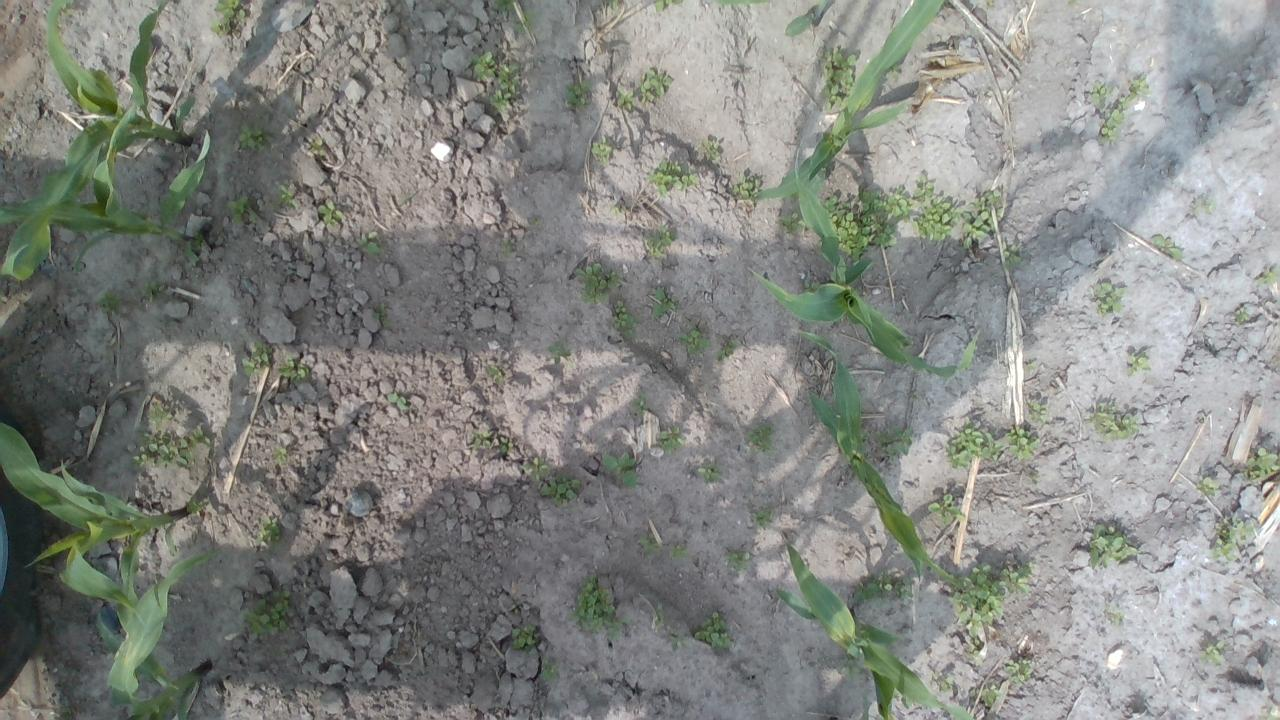Maize: (744, 145, 978, 382), (0, 0, 191, 281), (0, 422, 192, 689), (794, 327, 963, 584), (0, 70, 211, 272), (751, 0, 948, 200), (776, 545, 978, 720), (92, 547, 210, 720), (784, 0, 826, 38)
Weeds: (821, 187, 910, 270), (950, 565, 1006, 639), (567, 575, 625, 639), (910, 174, 961, 241), (946, 419, 1004, 470), (236, 590, 290, 639), (961, 188, 1004, 248), (130, 431, 192, 469), (822, 47, 856, 112), (1085, 402, 1140, 442), (1088, 524, 1137, 568), (851, 574, 912, 608), (1212, 514, 1254, 562), (646, 158, 700, 195), (575, 262, 622, 304), (490, 63, 522, 111), (694, 612, 734, 650), (602, 452, 642, 490), (540, 474, 582, 505), (211, 0, 247, 36), (638, 68, 674, 104), (1004, 426, 1041, 461), (240, 338, 272, 375), (928, 494, 966, 525), (236, 121, 272, 153), (1243, 448, 1280, 479), (874, 428, 911, 459), (1116, 74, 1148, 109), (744, 421, 777, 454), (1002, 564, 1038, 594), (1094, 281, 1126, 314), (222, 196, 258, 224), (470, 49, 500, 82), (278, 356, 310, 386), (612, 300, 637, 338), (647, 226, 677, 257), (678, 330, 713, 356), (1100, 110, 1124, 146), (1150, 234, 1183, 260), (564, 79, 594, 107), (511, 624, 538, 654), (657, 424, 683, 455), (1004, 658, 1034, 684), (256, 512, 281, 543), (182, 231, 204, 266), (652, 286, 676, 318), (730, 172, 760, 197), (95, 288, 122, 314), (316, 198, 343, 224), (358, 231, 384, 258), (1088, 80, 1112, 109), (1200, 640, 1226, 666), (1022, 398, 1048, 424), (590, 136, 614, 164), (782, 208, 806, 236), (1125, 352, 1151, 376), (274, 182, 298, 208), (520, 458, 548, 480), (548, 337, 570, 364), (1002, 243, 1022, 272), (614, 86, 636, 112), (369, 303, 392, 327), (726, 551, 752, 571), (302, 134, 324, 157), (516, 7, 536, 32), (542, 657, 562, 682), (982, 683, 1002, 707), (631, 391, 650, 416), (930, 670, 954, 688), (142, 278, 160, 302), (1197, 477, 1219, 496), (750, 510, 773, 528), (1256, 267, 1280, 284), (696, 464, 720, 481), (639, 534, 659, 554), (718, 340, 738, 360), (470, 430, 491, 449), (842, 658, 862, 677), (716, 0, 770, 7), (654, 0, 682, 13), (149, 404, 168, 423), (486, 367, 505, 386), (388, 392, 408, 410), (192, 431, 212, 449), (1103, 608, 1123, 625), (56, 0, 75, 17), (670, 545, 690, 561), (968, 638, 984, 658), (704, 139, 720, 159), (670, 632, 689, 648), (498, 436, 514, 455), (651, 606, 665, 627), (494, 0, 516, 13), (1260, 706, 1280, 720), (271, 446, 287, 463), (801, 279, 820, 292), (190, 497, 205, 512), (1234, 307, 1249, 321), (862, 430, 871, 449), (1198, 200, 1212, 212), (608, 206, 624, 216), (502, 240, 512, 256), (608, 0, 620, 10), (130, 128, 144, 134), (1026, 362, 1036, 369)
